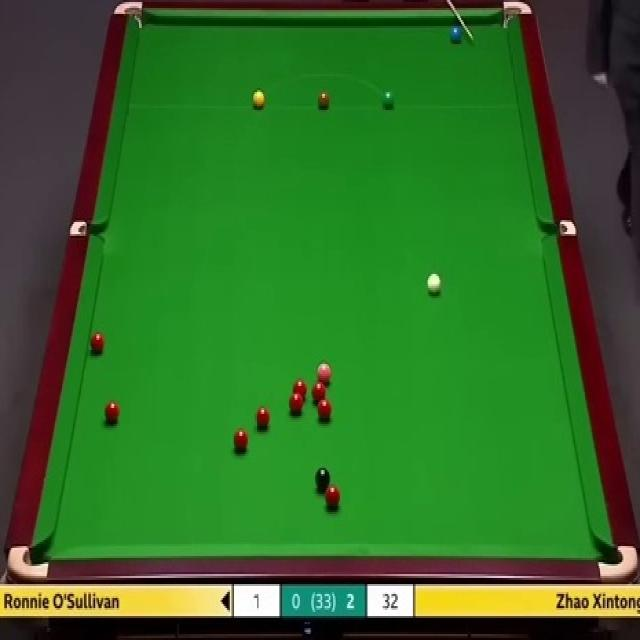black-ball: (315, 466, 329, 489)
blue-ball: (450, 27, 460, 44)
brown-ball: (318, 90, 331, 110)
green-ball: (381, 90, 395, 111)
pink-ball: (317, 362, 331, 388)
red-ball: (89, 332, 106, 356), (233, 428, 249, 453), (311, 379, 327, 404), (318, 397, 332, 425), (324, 484, 340, 508), (254, 405, 270, 429), (293, 378, 307, 404), (105, 401, 118, 424), (290, 393, 302, 413)
white-ball: (426, 272, 442, 296)
yellow-ball: (251, 89, 266, 110)
